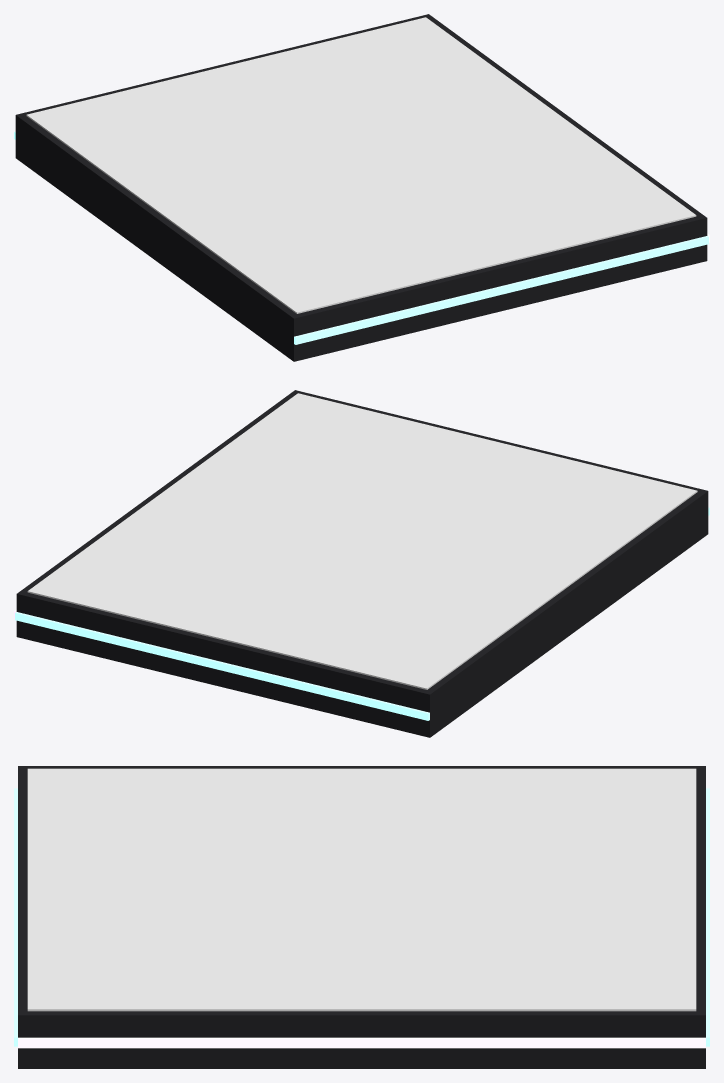
Rendered from SM_Stage.fbx.
The picture shows the model from 3 angles, top to bottom: view 1: azimuth 30°, elevation 25°; view 2: azimuth 150°, elevation 25°; view 3: azimuth 270°, elevation 25°; orthographic projection. The views are drawn at different scales.
Visible parts, largest first — view 1: SM_Stage; view 2: SM_Stage; view 3: SM_Stage.
Boxes of the visible parts, x1,y1,x2,y2 form: SM_Stage: (14,14,709,361); SM_Stage: (14,390,709,737); SM_Stage: (14,766,709,1068).
Bounding box in the file's own units: 302 × 31 × 354.
